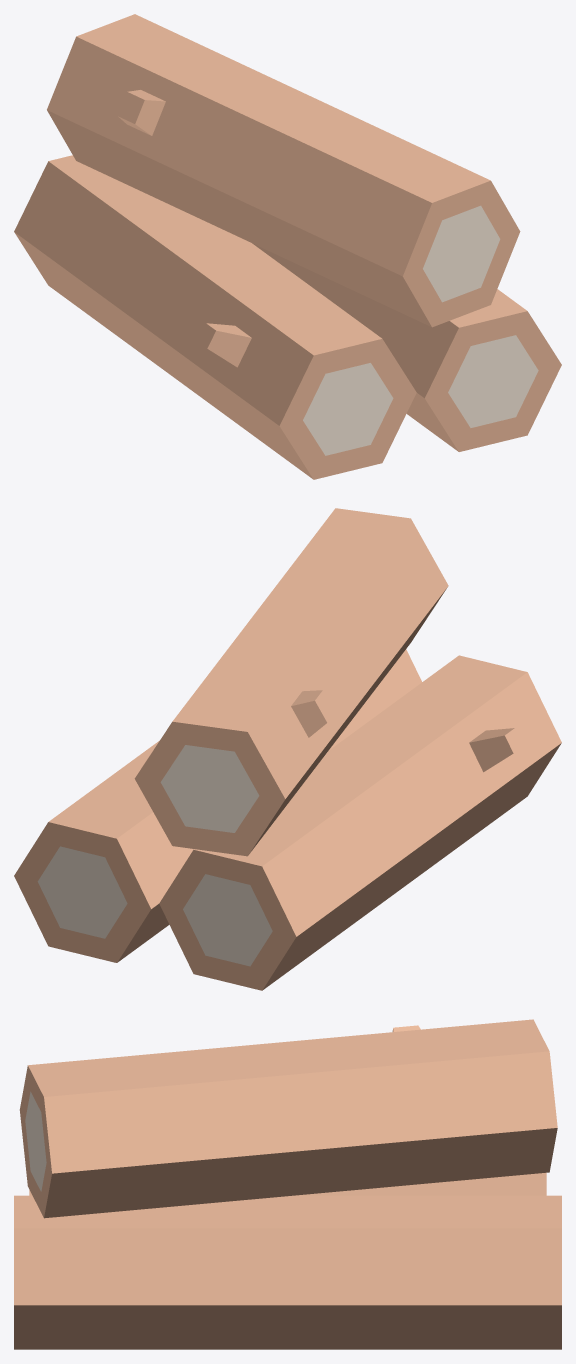
File: log_stack.glb
The picture shows the model from 3 angles, top to bottom: view 1: azimuth 30°, elevation 25°; view 2: azimuth 150°, elevation 25°; view 3: azimuth 270°, elevation 25°; orthographic projection. The views are drawn at different scales.
Parts seen in each view (by area): view 1: log_stack; view 2: log_stack; view 3: log_stack.
Part boxes in pixels (bbox=[...]): log_stack: bbox=[14, 14, 561, 479]; log_stack: bbox=[14, 508, 561, 990]; log_stack: bbox=[14, 1019, 561, 1349].
Bounding box in the file's own units: 0.4247 × 0.3464 × 0.71.
Materials: 1 (1 with a texture image).
